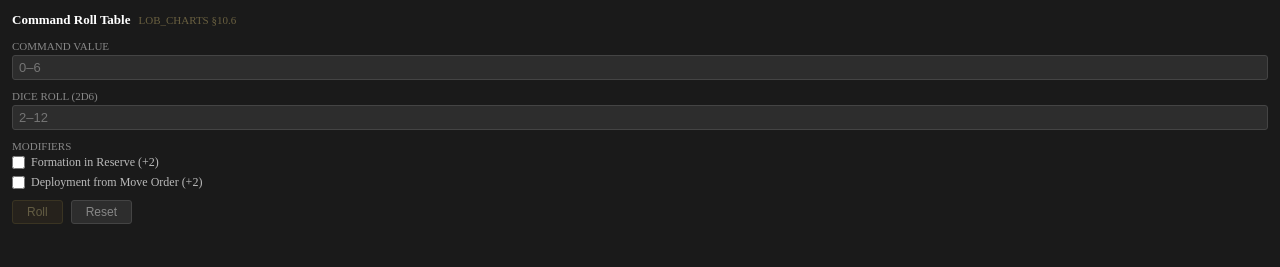
CommandRollPanel › displays error on fetch failure
The width and height of the screenshot is (1280, 267).
Type "3" into the number field labelled "Command Value" at (640, 68), box [12,55,1268,80]
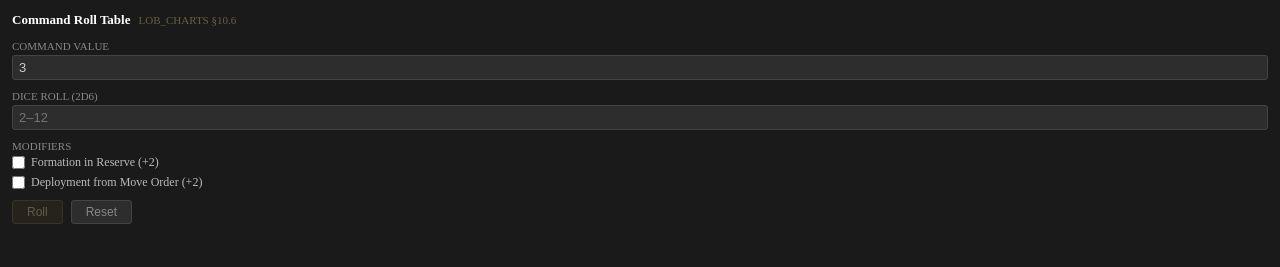
Type "9" into the number field labelled "Dice Roll (2d6)" at (640, 118), box [12,105,1268,130]
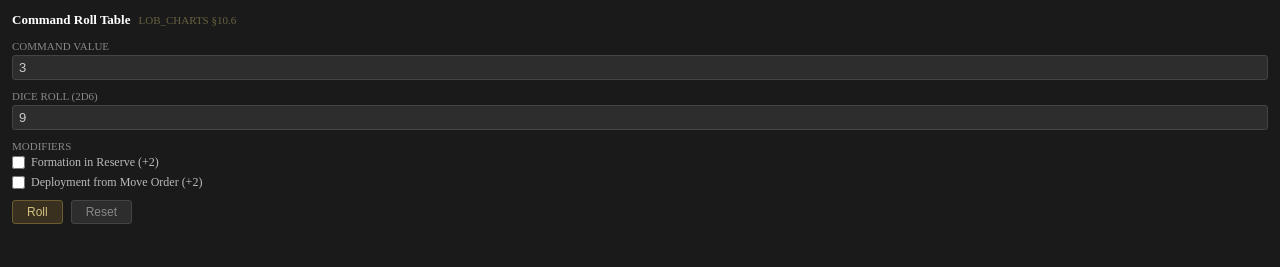
Click the button "Roll" at (37, 212), box [12,200,63,224]
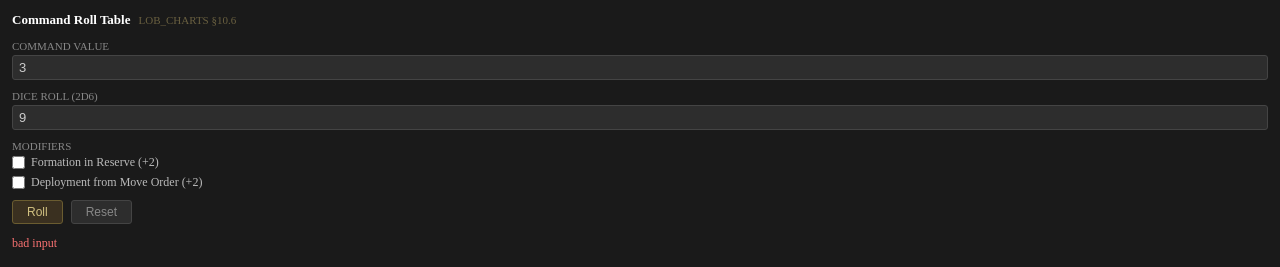
Expected: the text "bad input" is shown, [12,236,57,250]
